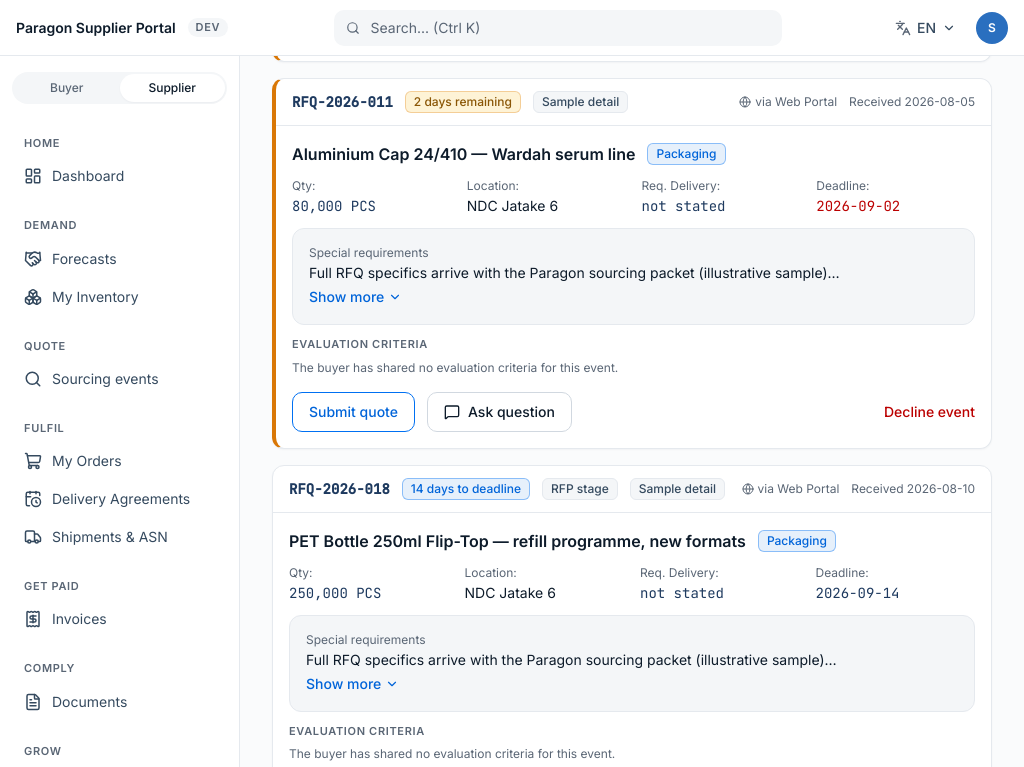
Test: 7 · the certificate step lists the supplier’s own documents › THE DEFECT, THEN THE FIX — the three hard-coded names are gone; the supplier’s documents are listed
(page scrolled)
What coordinates should you click on to do the following:
click the button "Submit quote"
I would click on:
 (354, 412)
Its box is x1=292 y1=392 x2=415 y2=432.
(page scrolled)
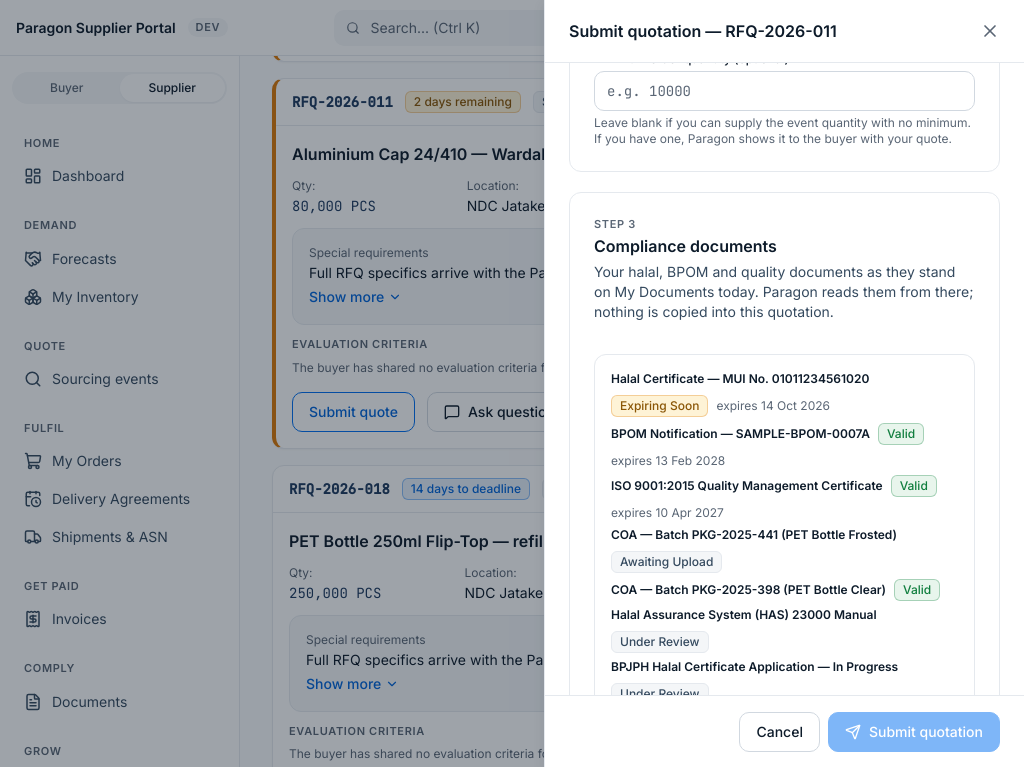
expect the element with test id "quote-certificates" is shown: met, box x1=594 y1=354 x2=975 y2=695
expect the text "Halal Certificate — MUI No. 01011234561020" is shown: met, box x1=611 y1=371 x2=869 y2=387
